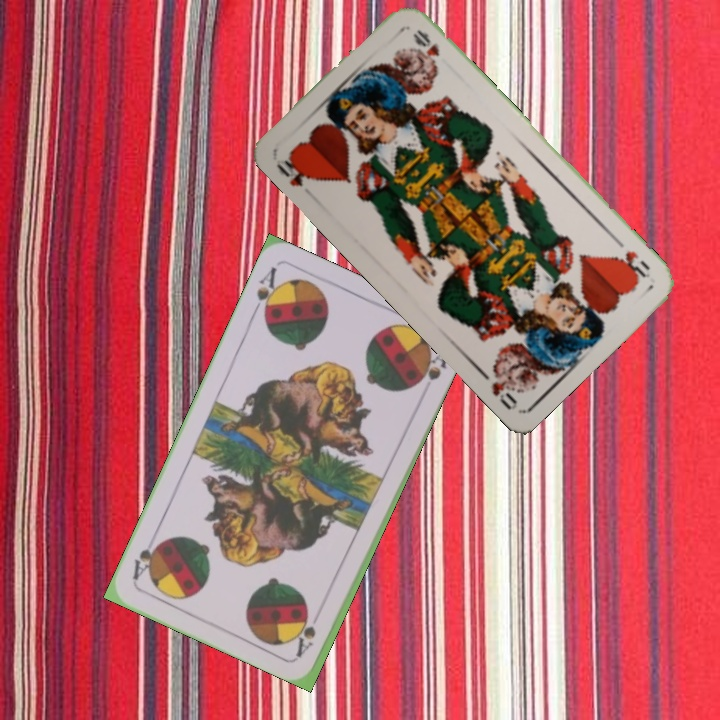HO: (609, 233, 653, 284), (272, 150, 316, 190)
SA: (247, 263, 283, 323), (292, 603, 325, 659)
